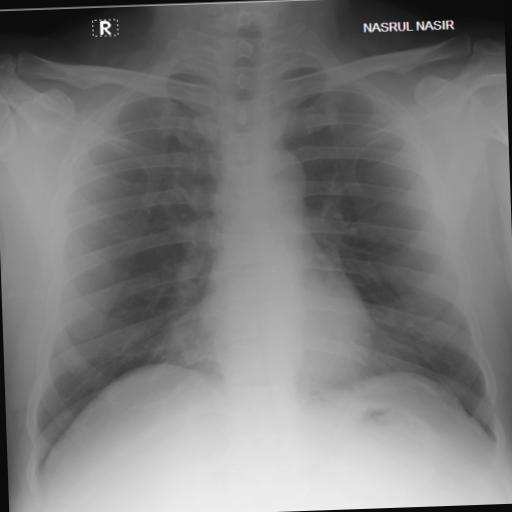normal: (9, 33, 512, 487)
